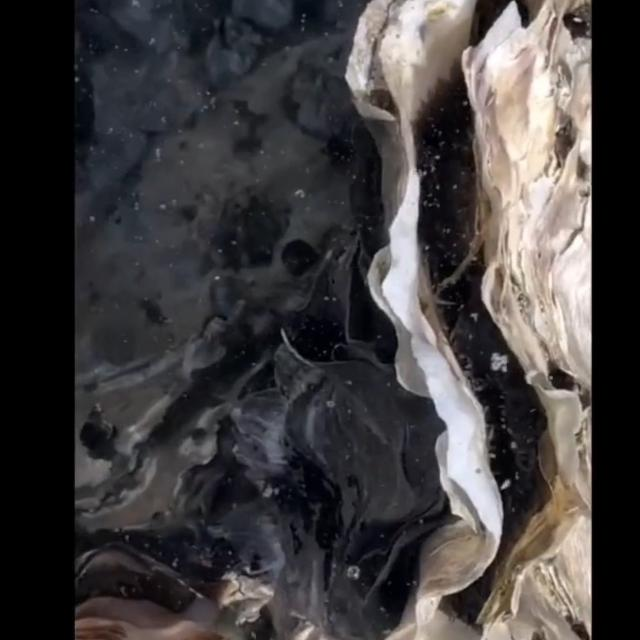Oyster-Open: (341, 0, 597, 640), (70, 29, 354, 515)
